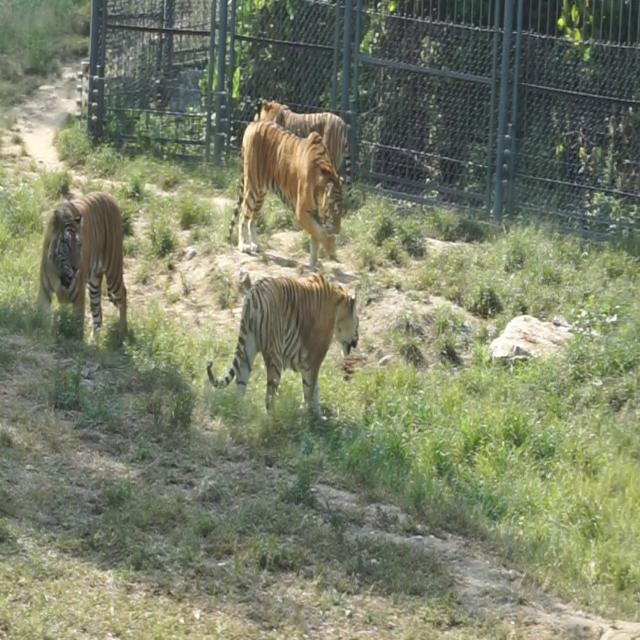Tiger: (206, 269, 359, 427), (32, 172, 134, 349), (228, 118, 342, 268), (253, 85, 350, 168)
